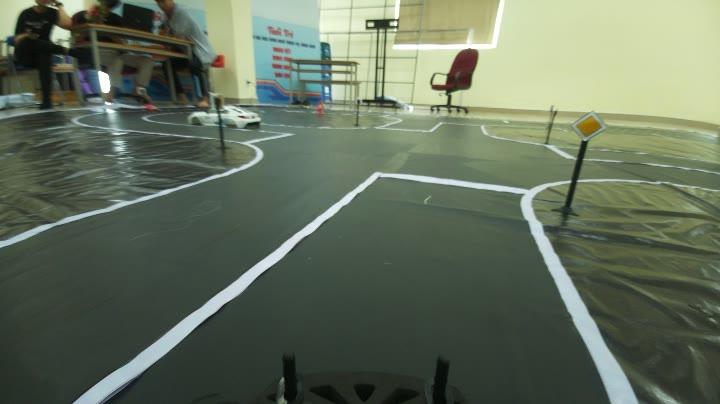priority: (568, 105, 614, 155)
